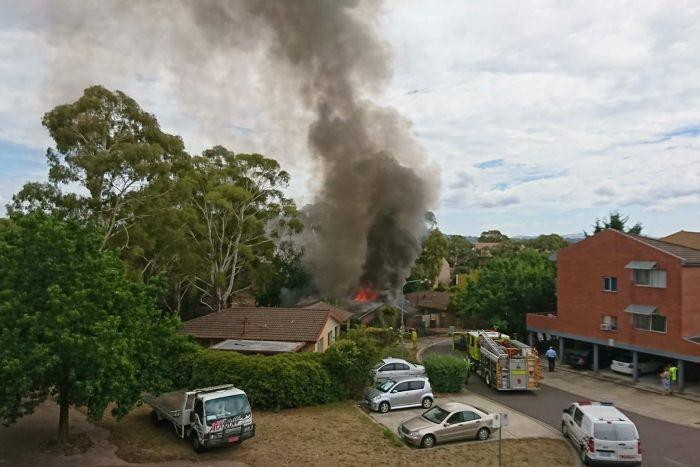smoke: (318, 133, 418, 211), (279, 4, 376, 78)
